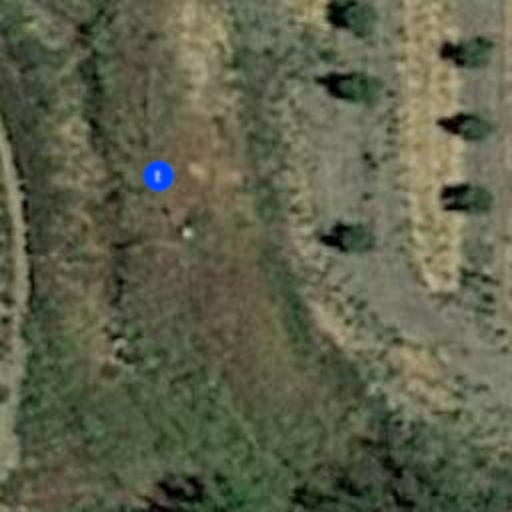circle: (140, 158, 176, 194)
